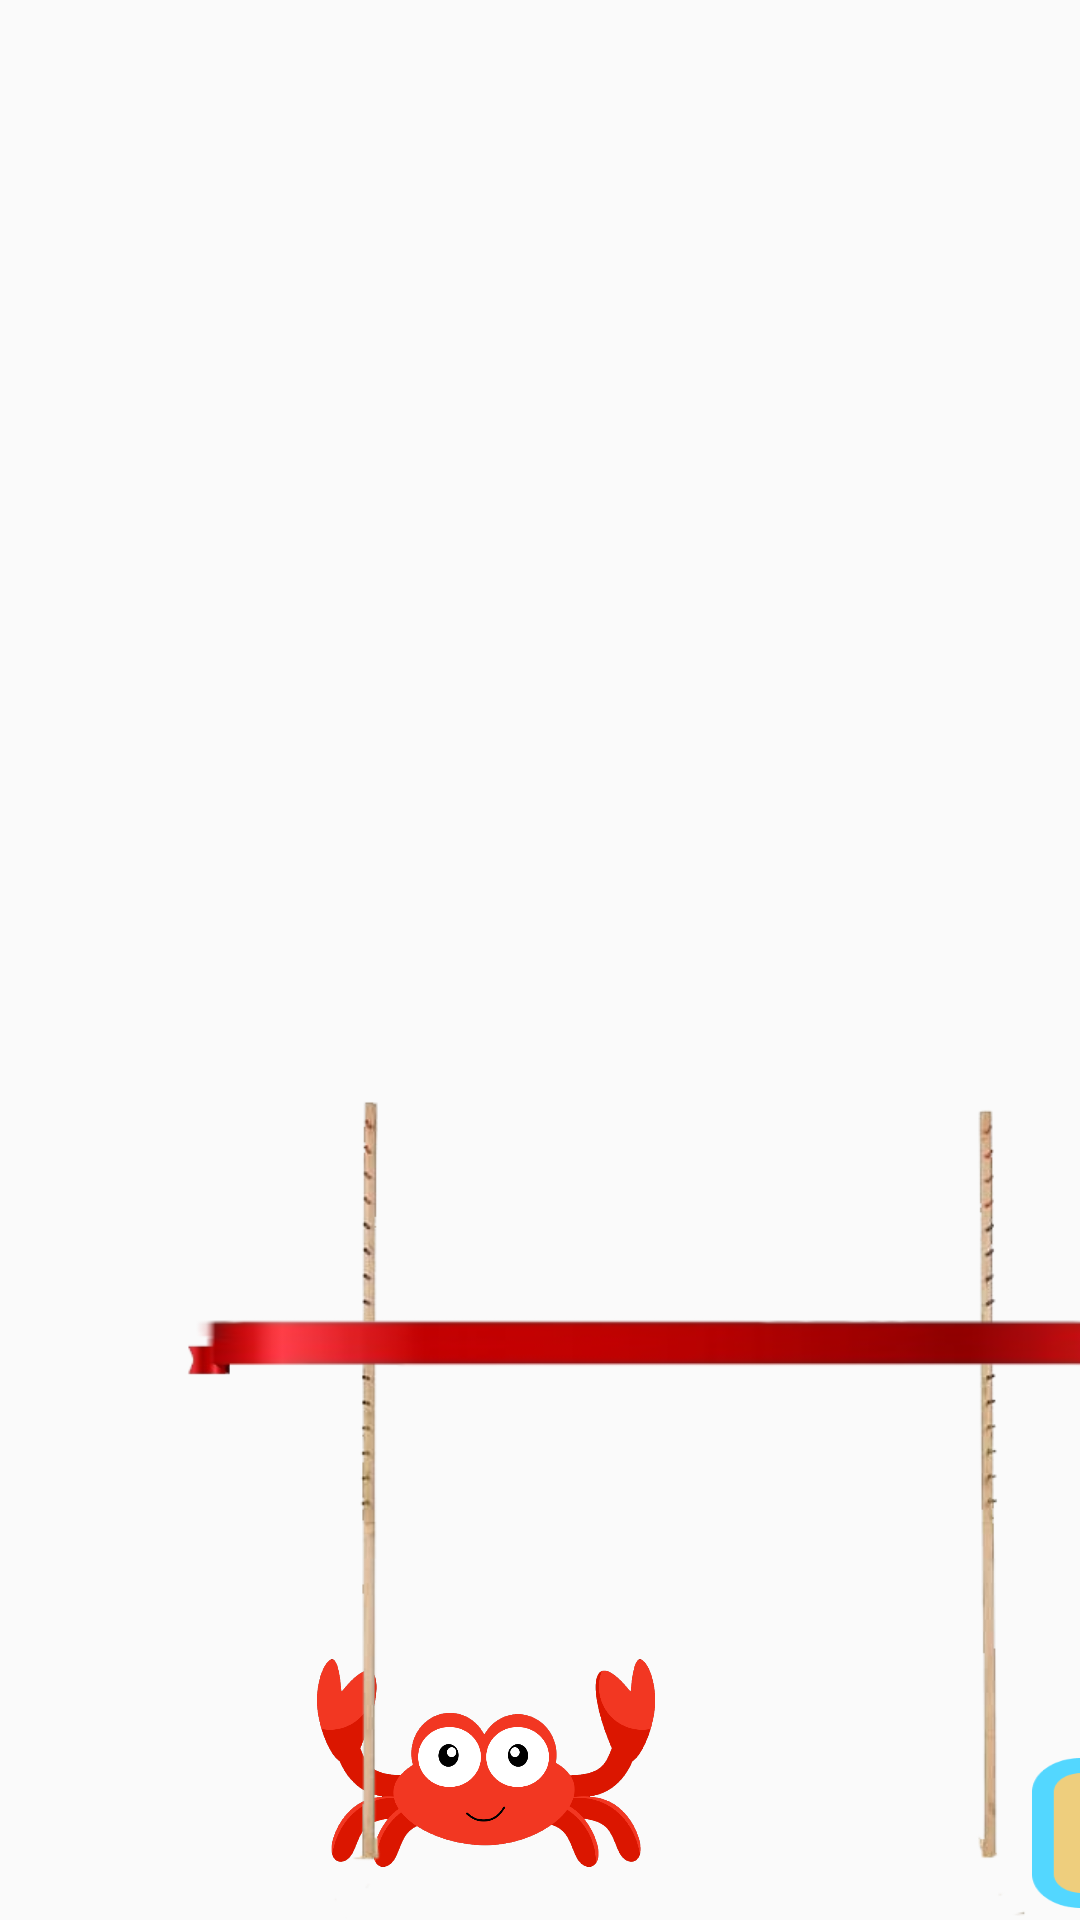

Where icons sit on this 1080*1920 app screen, as (x1, y1, x2, y2):
crab: (317, 1653, 655, 1867)
